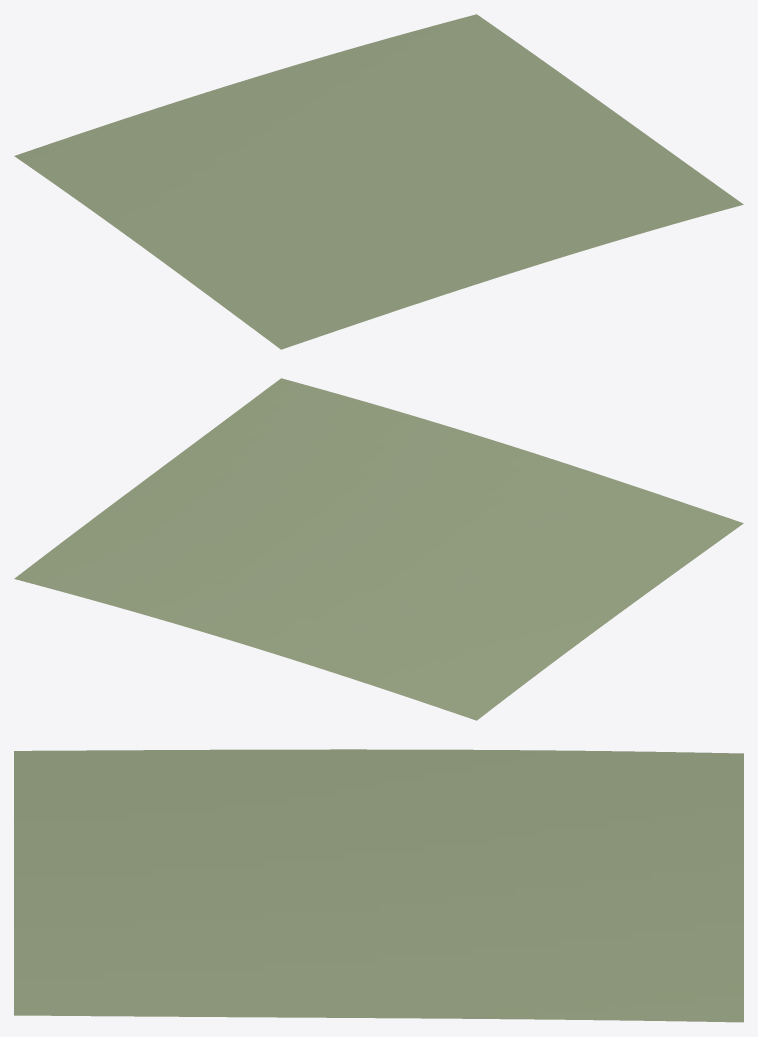
Rendered from expanse-21-13.glb.
3 renders of one model, top to bottom at view 1: azimuth 30°, elevation 25°; view 2: azimuth 150°, elevation 25°; view 3: azimuth 270°, elevation 25°, orthographic. The views are drawn at different scales.
Parts seen in each view (by area): view 1: expanse-21-13; view 2: expanse-21-13; view 3: expanse-21-13.
Part boxes in pixels (bbox=[...]): expanse-21-13: bbox=[14, 14, 743, 349]; expanse-21-13: bbox=[14, 378, 743, 720]; expanse-21-13: bbox=[14, 749, 743, 1022].
Bounding box in the file's own units: 256 × 17.99 × 256.
